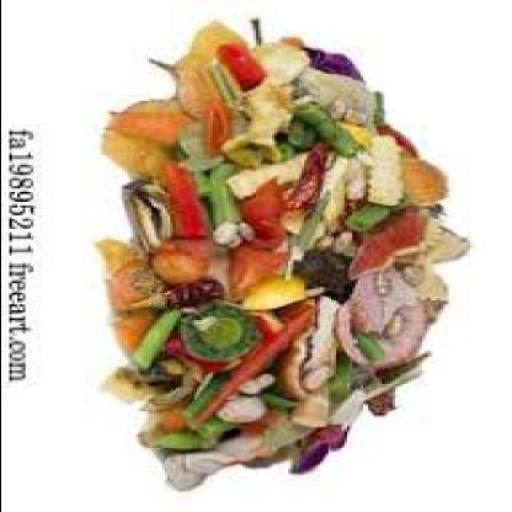biodegradable: (193, 297, 321, 417), (338, 258, 450, 366), (145, 19, 249, 113), (356, 212, 474, 276), (107, 99, 191, 180), (223, 83, 298, 171), (348, 207, 440, 275), (180, 299, 268, 361), (212, 413, 314, 463), (160, 236, 236, 303), (150, 159, 212, 236), (298, 93, 364, 159), (300, 68, 378, 122), (252, 13, 310, 85), (231, 240, 297, 299), (233, 147, 311, 196), (123, 179, 180, 246), (303, 299, 343, 388), (145, 357, 206, 409), (158, 448, 231, 489), (134, 306, 182, 368), (370, 352, 431, 400), (290, 142, 332, 209), (166, 334, 244, 370), (295, 424, 351, 472), (112, 259, 160, 310), (180, 121, 228, 172), (244, 270, 311, 306), (214, 45, 268, 89), (239, 176, 287, 224), (370, 132, 404, 199), (110, 366, 172, 400), (150, 249, 212, 283), (118, 308, 161, 357), (298, 198, 335, 254), (292, 380, 332, 431), (140, 402, 188, 444), (137, 281, 220, 305), (311, 46, 367, 80), (402, 160, 447, 202), (327, 153, 349, 227), (102, 237, 142, 277), (241, 216, 289, 248), (330, 351, 359, 401), (217, 394, 268, 421), (206, 106, 233, 157), (336, 384, 368, 426), (284, 184, 312, 231), (249, 438, 297, 465), (346, 205, 400, 229), (378, 122, 418, 154), (287, 114, 319, 152), (155, 428, 209, 450), (351, 144, 370, 198), (340, 116, 370, 147), (260, 390, 302, 409), (241, 372, 276, 394), (372, 388, 397, 411), (214, 221, 239, 244), (402, 260, 426, 283), (373, 268, 391, 297), (372, 89, 386, 126), (383, 314, 405, 336), (232, 219, 254, 239), (316, 229, 335, 249), (287, 37, 305, 50)
